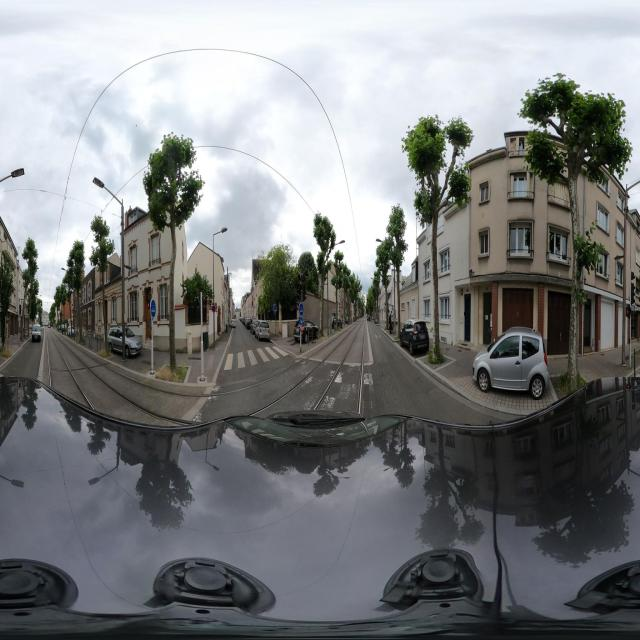forb_stopping: (212, 305, 216, 313)
